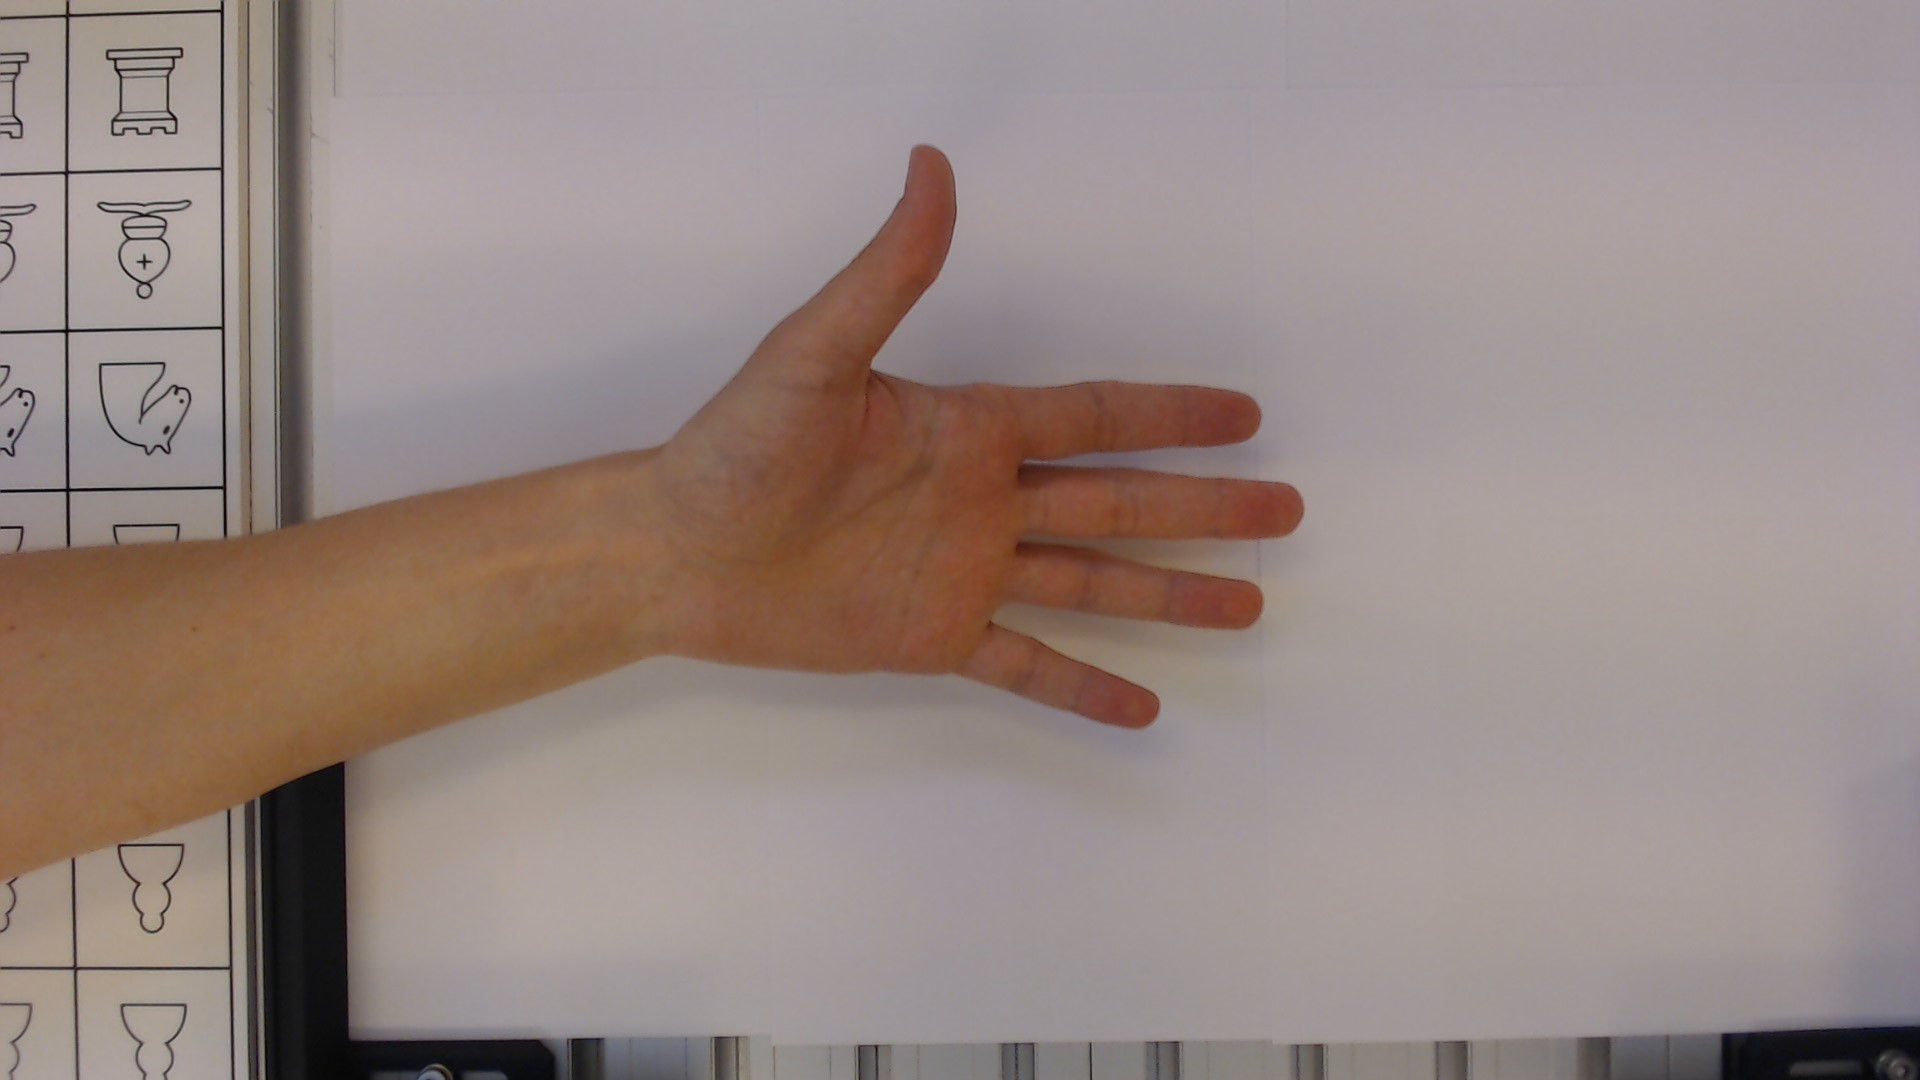Palm: (636, 293, 1056, 736)
